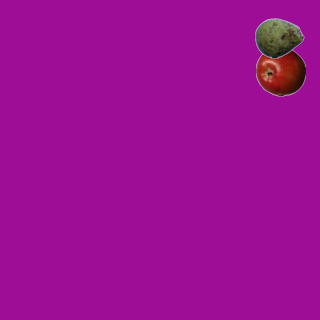Apple Braeburn: (255, 46, 305, 96)
Pear Stone: (254, 13, 304, 63)
